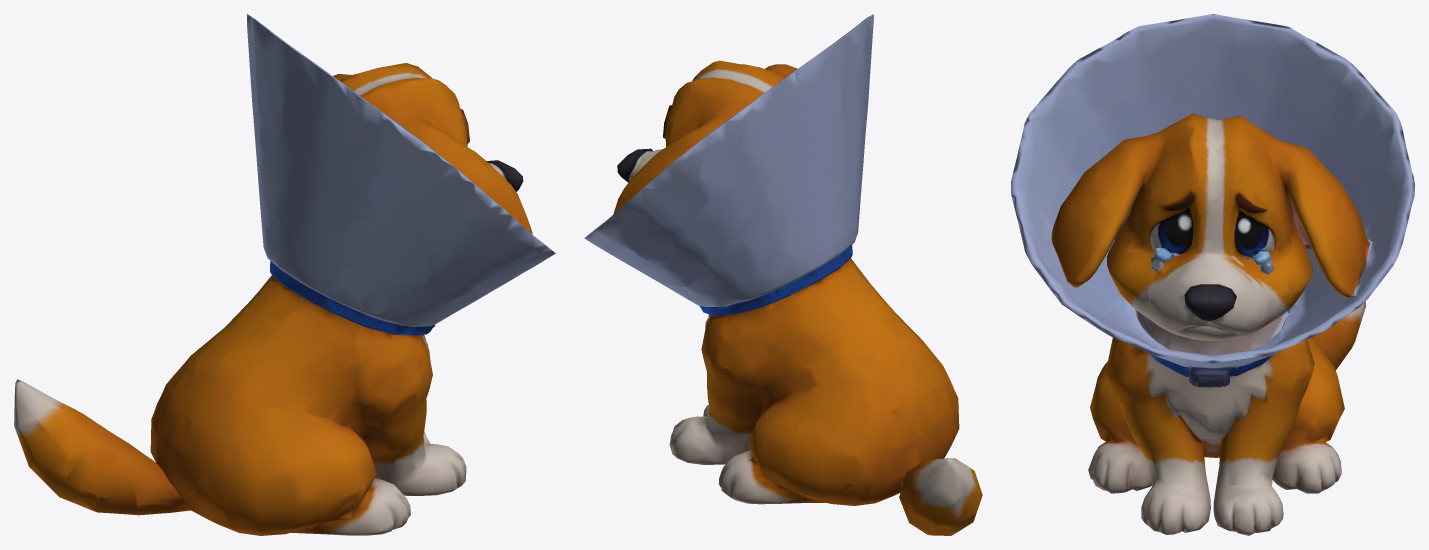
Rendered from dog_corgi_coned.glb.
3 views of the same model, side by side, from view 1: azimuth 30°, elevation 25°; view 2: azimuth 150°, elevation 25°; view 3: azimuth 270°, elevation 25° (orthographic). The views are drawn at different scales.
Parts seen in each view (by area): view 1: tripo_node_ef7b792f-2d19-44bb-9e43-696d1f12b283; view 2: tripo_node_ef7b792f-2d19-44bb-9e43-696d1f12b283; view 3: tripo_node_ef7b792f-2d19-44bb-9e43-696d1f12b283.
Boxes of the visible parts, box(x1,y1,x2,y2) form: tripo_node_ef7b792f-2d19-44bb-9e43-696d1f12b283: box(14, 14, 555, 535); tripo_node_ef7b792f-2d19-44bb-9e43-696d1f12b283: box(584, 14, 982, 535); tripo_node_ef7b792f-2d19-44bb-9e43-696d1f12b283: box(1011, 14, 1414, 535).
Bounding box in the file's own units: 0.994 × 1 × 0.814.
1 material, 1 textured.
